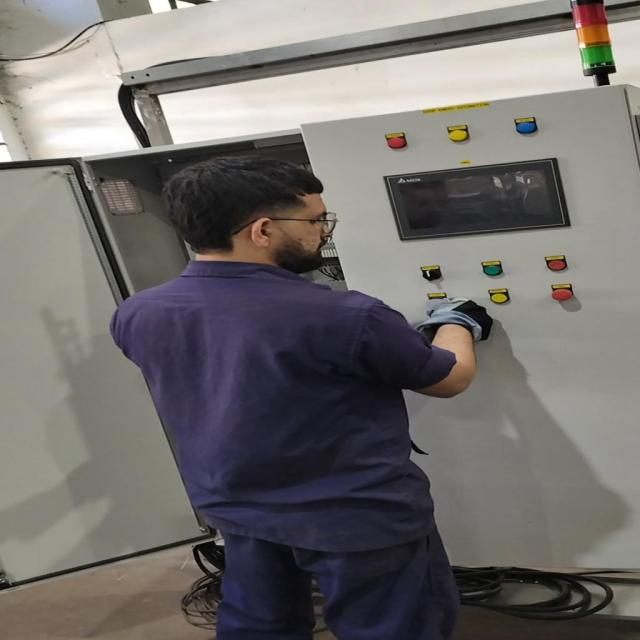Gloves-Detection: (421, 302, 494, 338)
